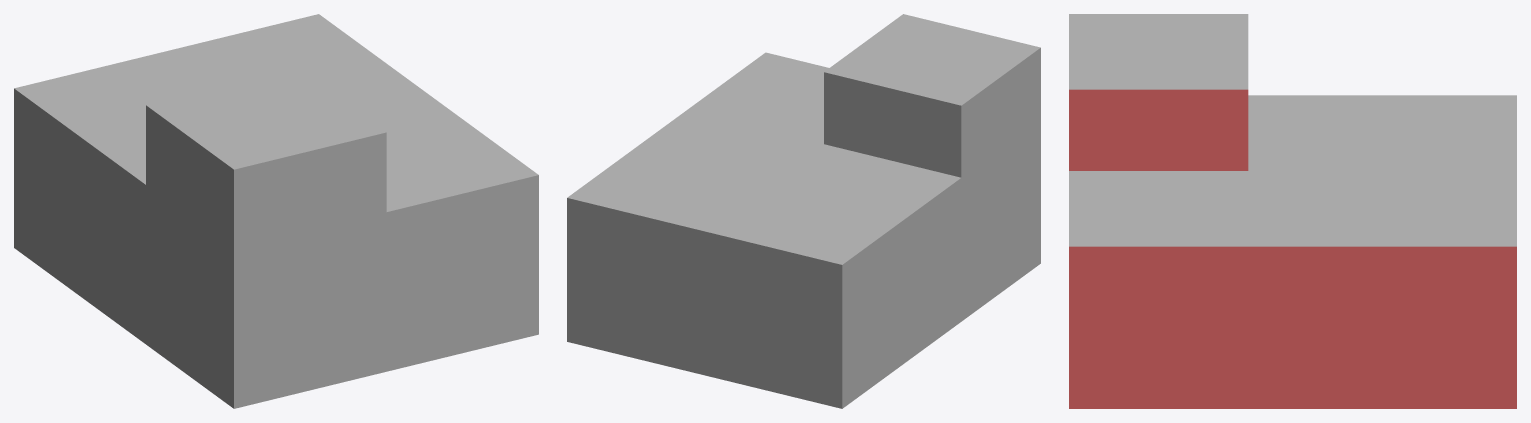
3 renders of one model, left to right at view 1: azimuth 30°, elevation 25°; view 2: azimuth 150°, elevation 25°; view 3: azimuth 270°, elevation 25°, orthographic. The views are drawn at different scales.
Visible parts, largest first — view 1: 7-3.SLDPRT; view 2: 7-3.SLDPRT; view 3: 7-3.SLDPRT.
Boxes of the visible parts, left/top/right/bottom form: 7-3.SLDPRT: left=14, top=14, right=538, bottom=408; 7-3.SLDPRT: left=567, top=14, right=1040, bottom=408; 7-3.SLDPRT: left=1069, top=14, right=1516, bottom=408.
Size of the model in its own units: 0.04 by 0.03 by 0.05.
